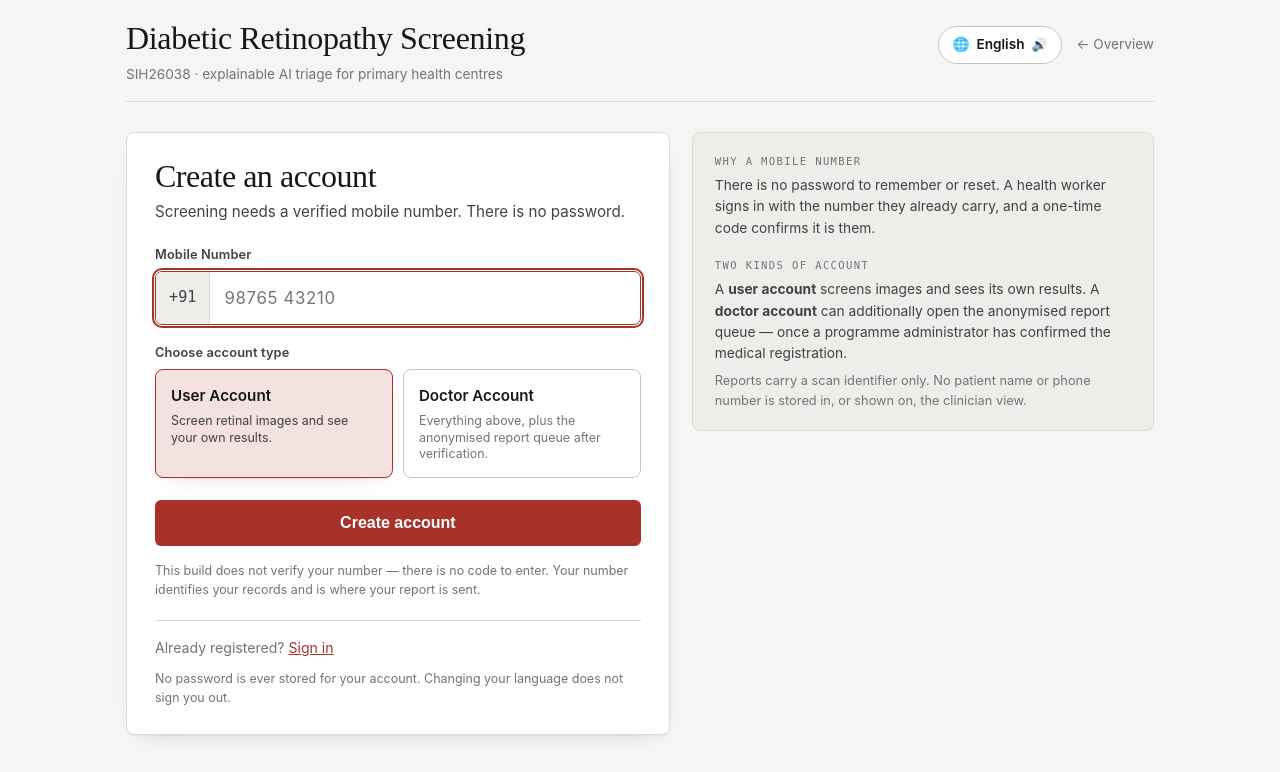
Test: signup › refuses to submit a doctor account without the claimed credentials
Type "9876543210" into the field with placeholder "98765 43210".
click(425, 298); type("9876543210")  # box [210,272,640,324]
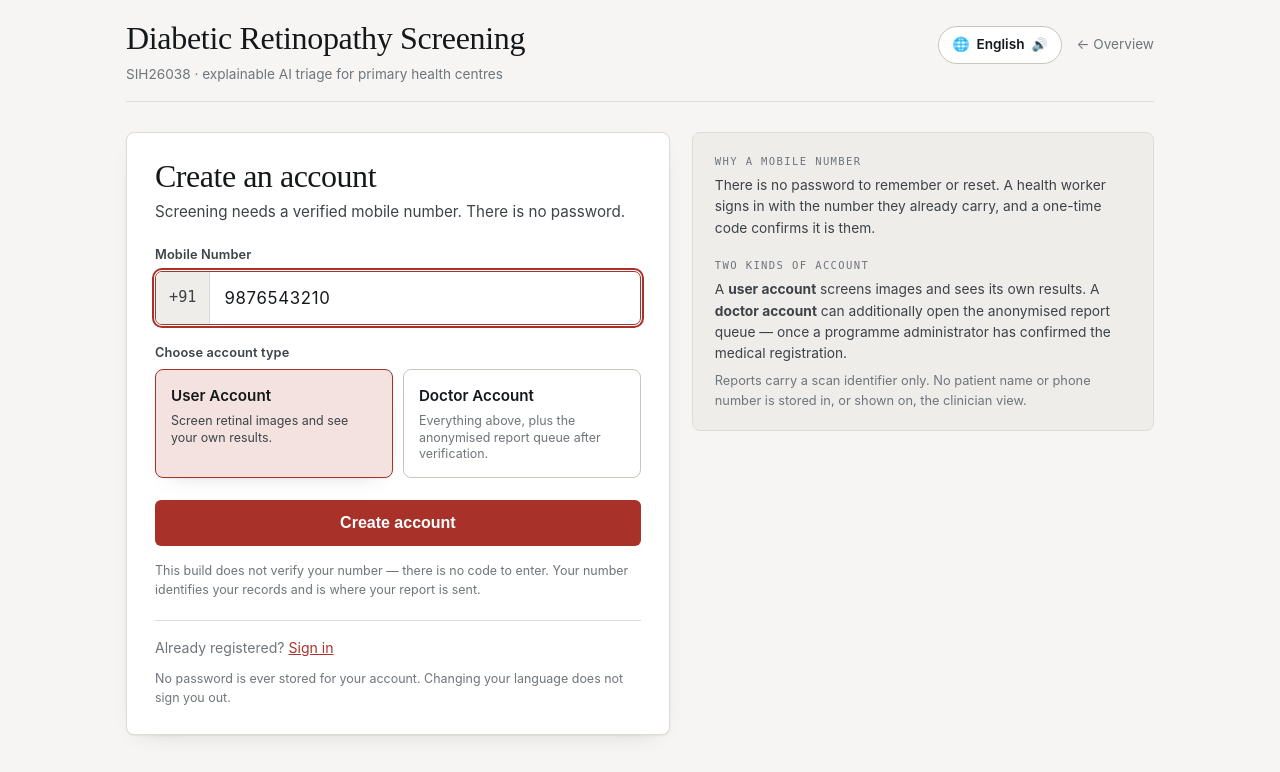
Click the text "Doctor Account".
click(476, 396)  # box [419,384,534,408]
(page scrolled)
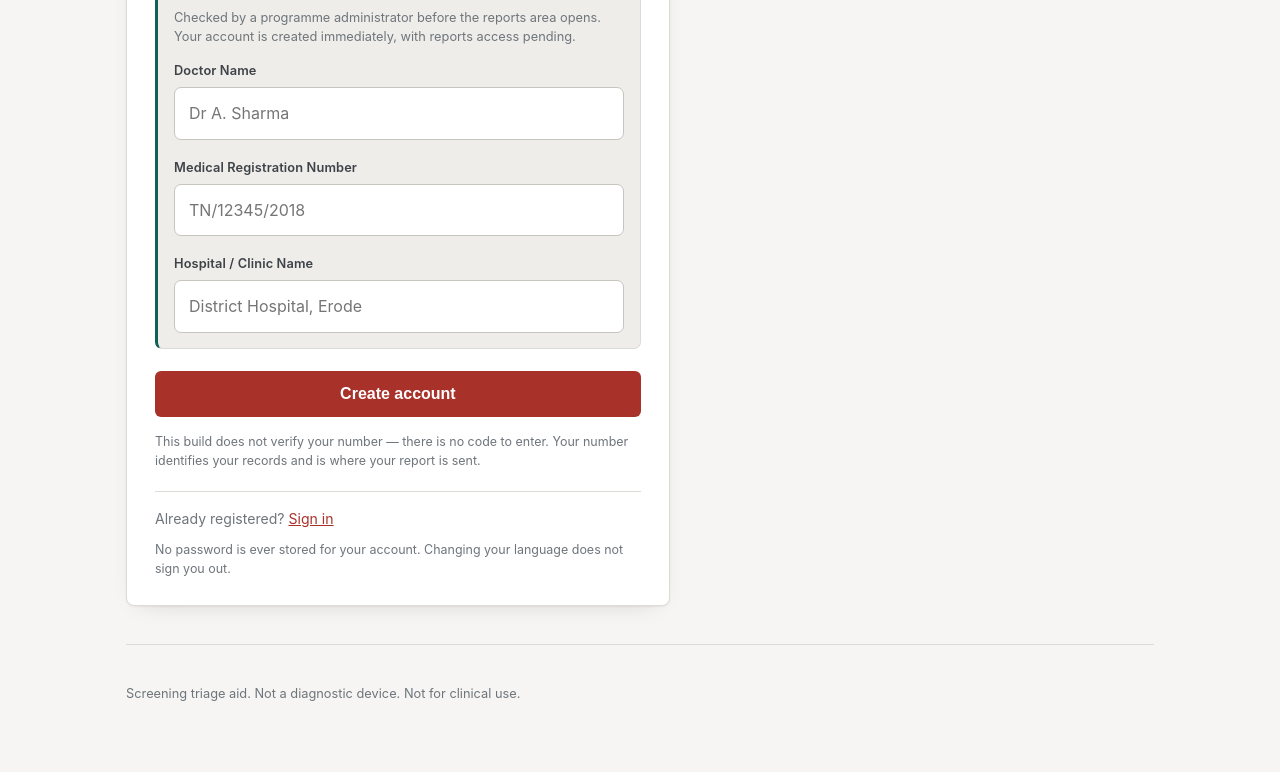
Click the button "Create account".
click(398, 394)  # box [155,371,641,417]
(page scrolled)
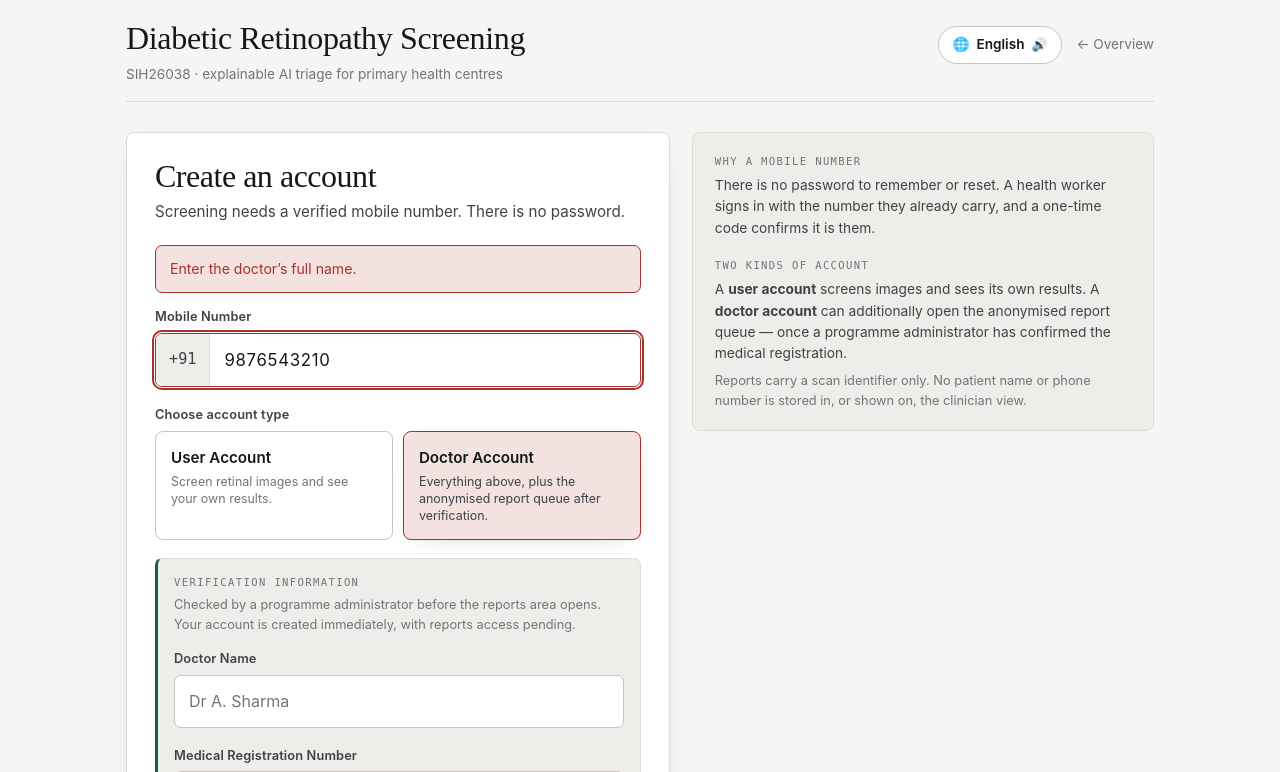
Result: the text "Enter the doctor’s full name." is shown at [155,245,641,293]
